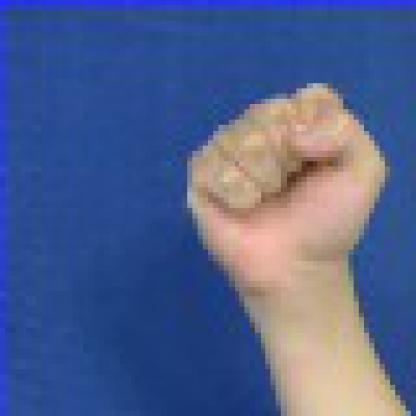zero: (166, 66, 408, 326)
